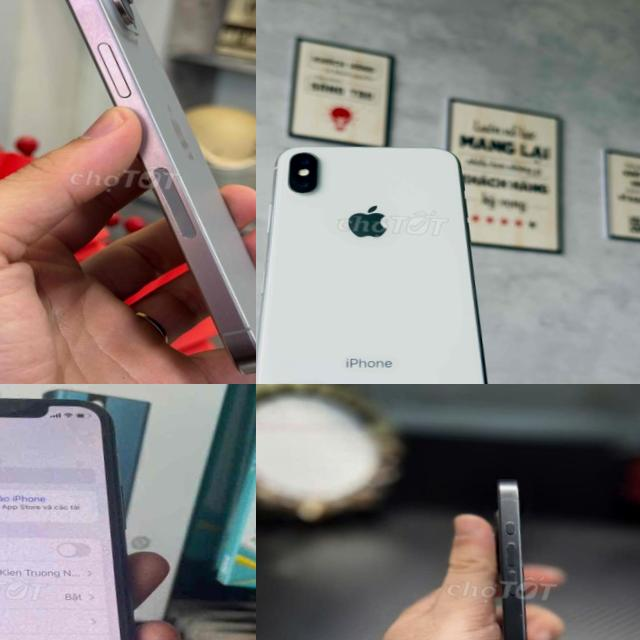gen_15: (0, 0, 256, 384), (455, 462, 603, 640)
gen_x_xs: (256, 131, 527, 384), (0, 387, 164, 640)
scratch: (498, 534, 530, 602)
